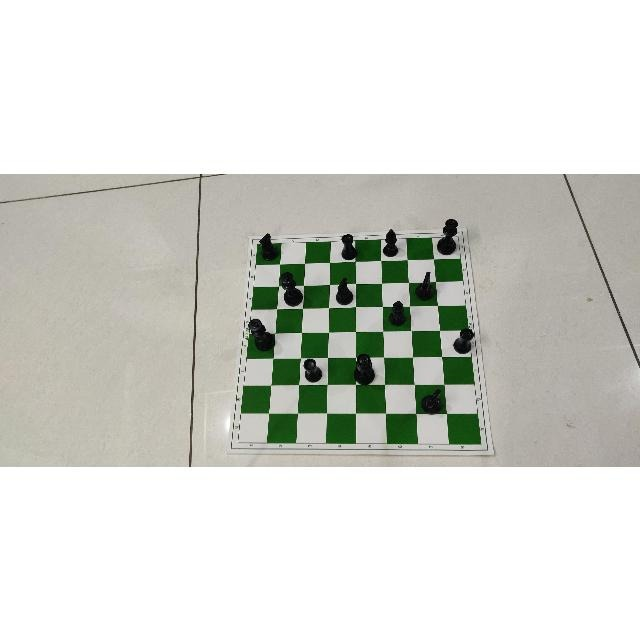black-bishop: (388, 299, 406, 326), (381, 228, 398, 256)
black-king: (247, 316, 274, 351), (279, 271, 303, 307)
black-knight: (414, 270, 434, 300), (258, 231, 278, 260), (420, 388, 442, 414), (334, 275, 353, 304)
black-queen: (436, 218, 458, 254), (353, 351, 375, 384)
black-rook: (453, 327, 475, 353), (302, 357, 322, 383), (340, 232, 357, 260)
